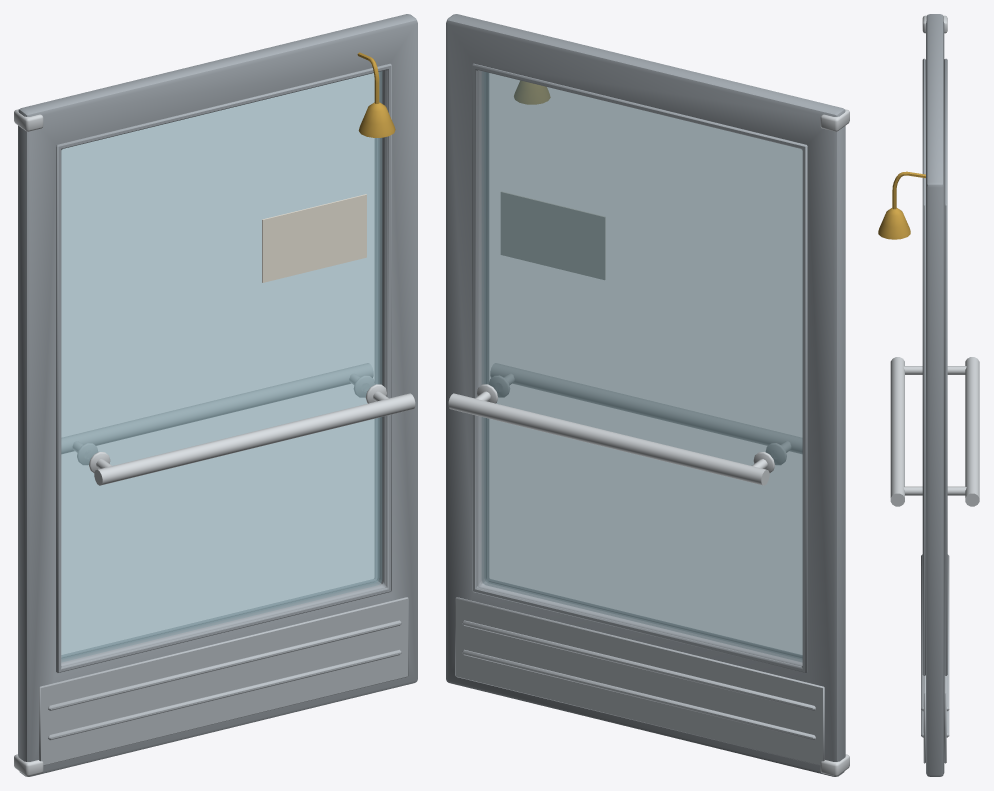
The model's file is Shop_DoorFront.fbx.
3 renders of one model, left to right at view 1: azimuth 30°, elevation 25°; view 2: azimuth 150°, elevation 25°; view 3: azimuth 270°, elevation 25°, orthographic. The views are drawn at different scales.
Visible parts, largest first — view 1: Glass, Frame, KickPlate, PushBar, Sticker, Chime; view 2: Glass, Frame, KickPlate, PushBar, Sticker; view 3: Frame, PushBar, KickPlate, Chime.
Part boxes in pixels (x1,y1,x2,y2): Glass: (61,71,381,662); Frame: (18,14,417,776); KickPlate: (39,597,408,765); PushBar: (14,109,415,776); Sticker: (262,194,366,282); Chime: (357,52,395,137); Glass: (482,71,802,662); Frame: (446,14,845,776); KickPlate: (455,597,824,765); PushBar: (448,109,849,776); Sticker: (501,191,605,279); Frame: (922,14,947,776); PushBar: (890,15,979,506); KickPlate: (921,554,949,763); Chime: (878,171,925,239).
Bounding box in the file's own units: 492 × 792 × 122.
